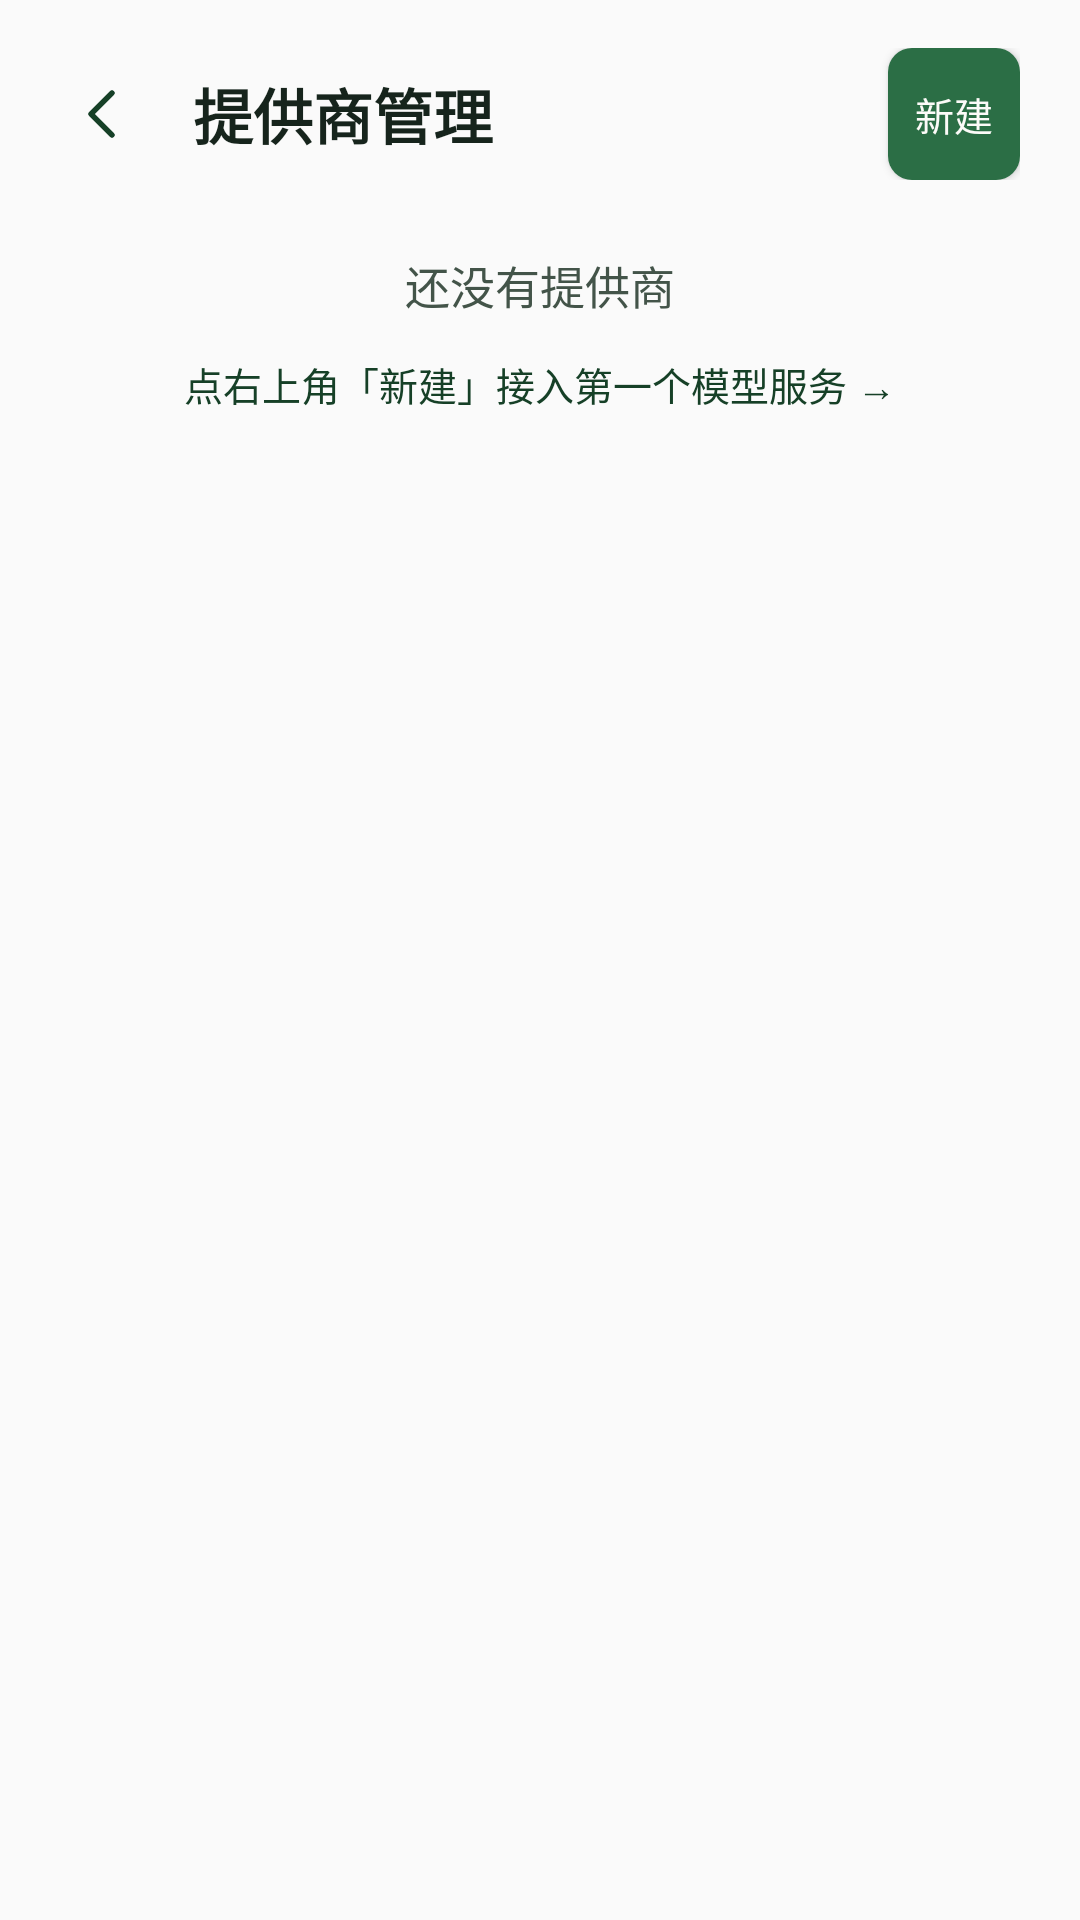

Icons on this 1080w x 1920h Android screen, each with the point to tap as point (x, y):
返回: point (101, 114)
